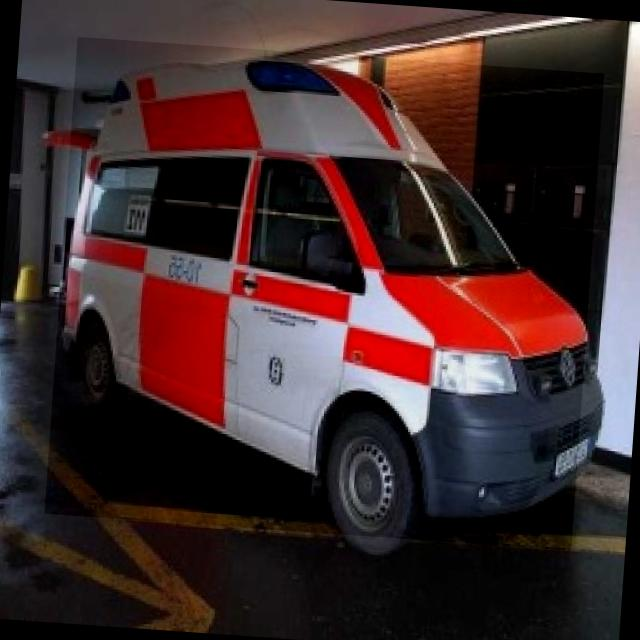ambulance: (44, 36, 604, 550)
